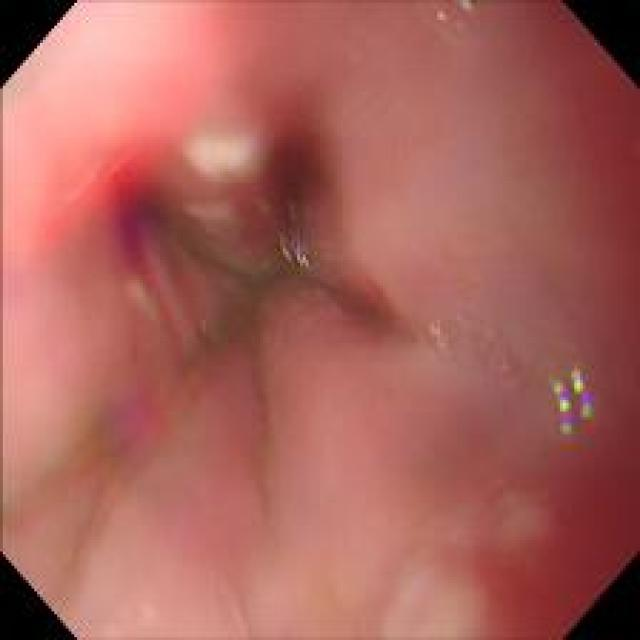blur: (109, 149, 420, 581)
color misalignment: (548, 356, 598, 435), (432, 0, 479, 46), (492, 345, 526, 398), (274, 226, 315, 268), (426, 311, 454, 352)
